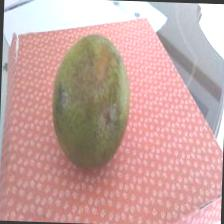Orange Rotten: (43, 28, 136, 174)
